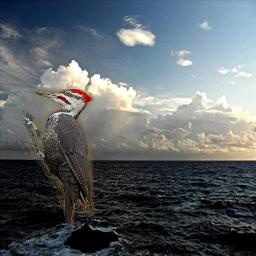Woodpecker: (22, 89, 94, 230)
